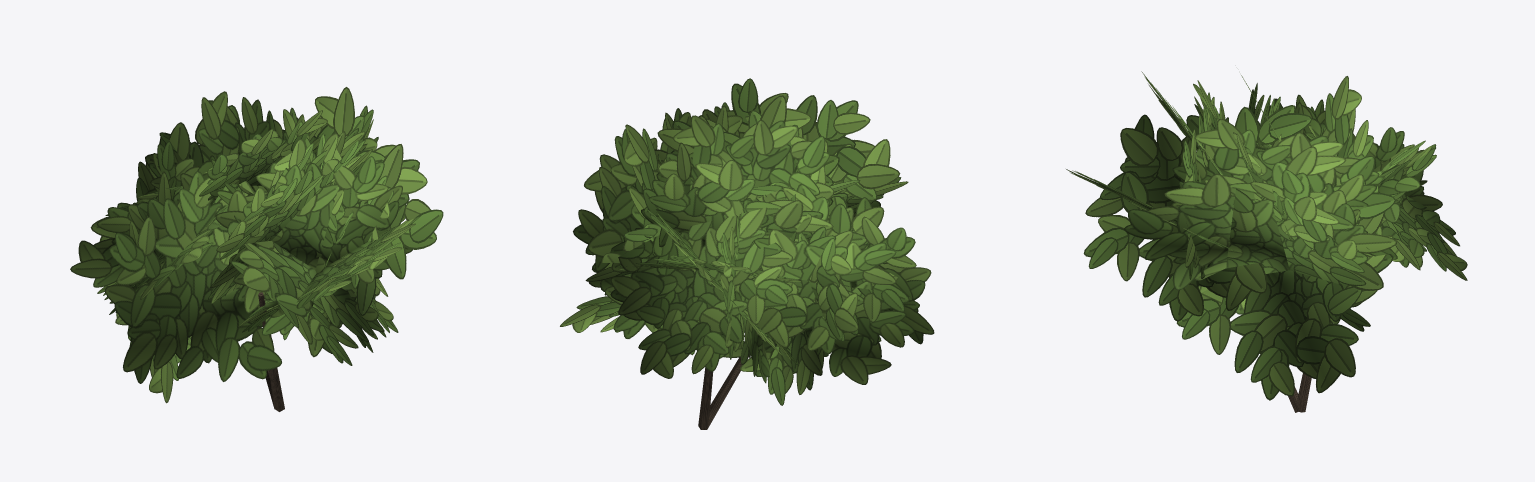
The model's file is cespuglio_1_leggero.glb.
3 renders of one model, left to right at view 1: azimuth 30°, elevation 25°; view 2: azimuth 150°, elevation 25°; view 3: azimuth 270°, elevation 25°, orthographic. The views are drawn at different scales.
Visible parts, largest first — view 1: cespuglio_1_leggero; view 2: cespuglio_1_leggero; view 3: cespuglio_1_leggero.
Boxes of the visible parts, box(x1,y1,x2,y2) form: cespuglio_1_leggero: box(70, 87, 443, 411); cespuglio_1_leggero: box(560, 78, 934, 429); cespuglio_1_leggero: box(1066, 71, 1467, 412).
Bounding box in the file's own units: 4.2 × 3.54 × 4.54.
Materials: 2 (2 with a texture image).
